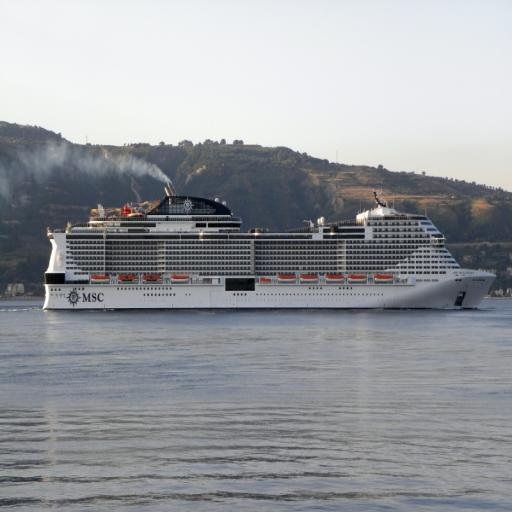cruises: (35, 178, 504, 322)
